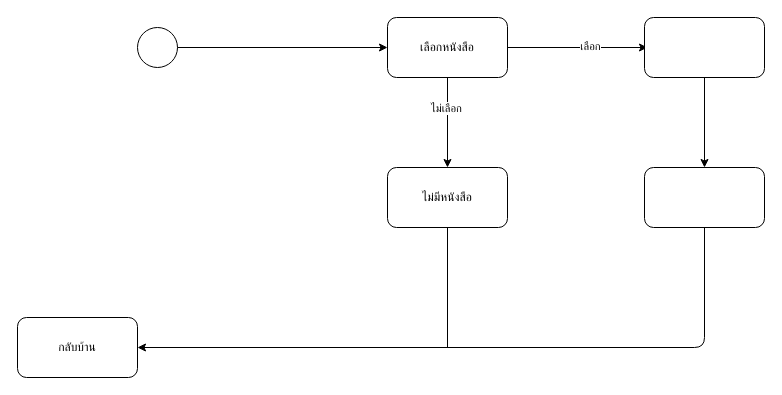
Image size: 782x395. Some labels were removed from this diagram. The centre of each missing label's shape, as x and y in pixels:
จ่ายตัง: the point at 704,197
มีหนังสือ: the point at 704,47
